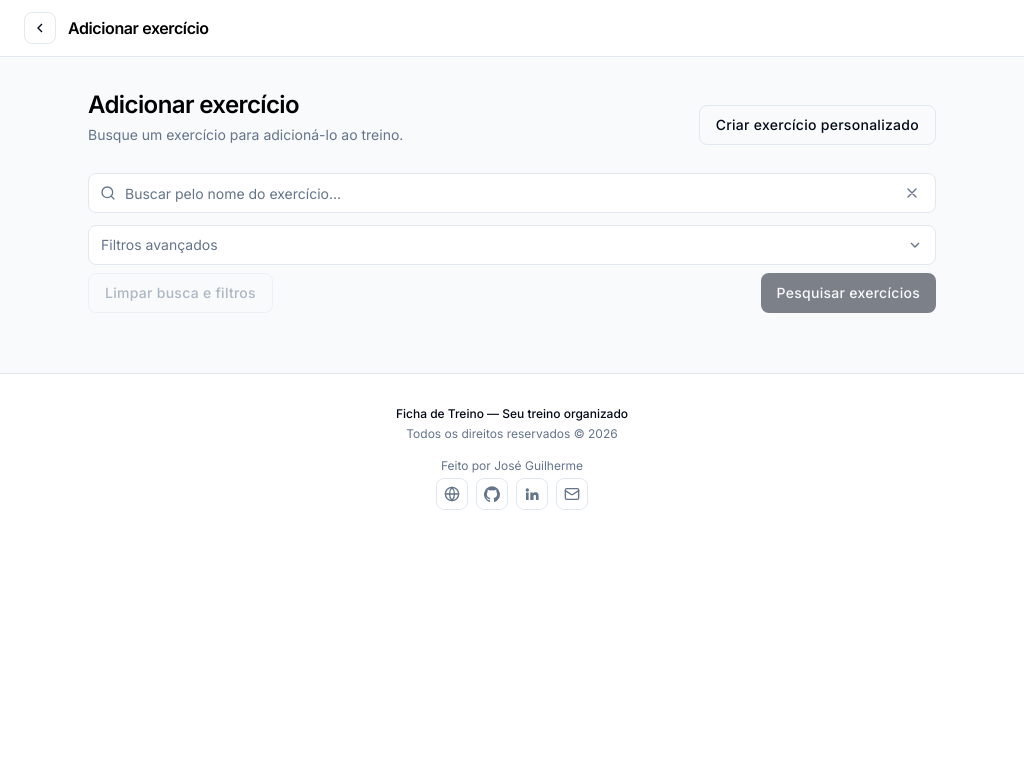
it: AddExercisePage › explains the level filter next to its label
Click the button with aria-label "Mais filtros" at (159, 244), box [88,225,936,265]
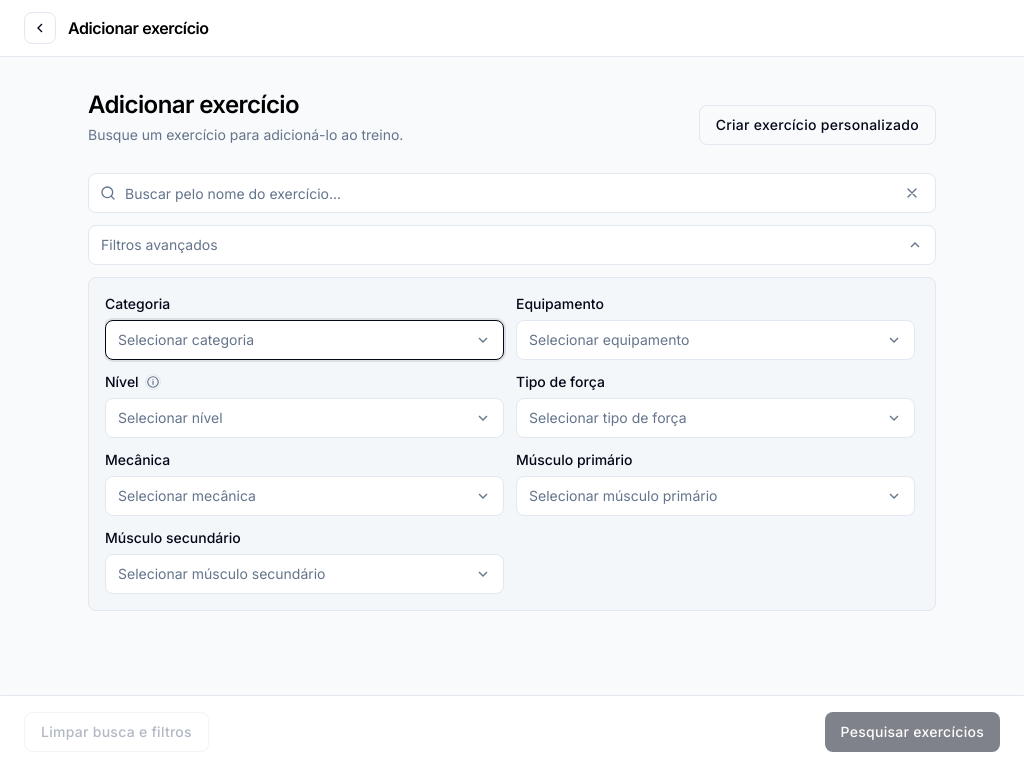
Hover over the button named "Sobre os níveis de exercício" at (153, 382), box [145,374,161,390]
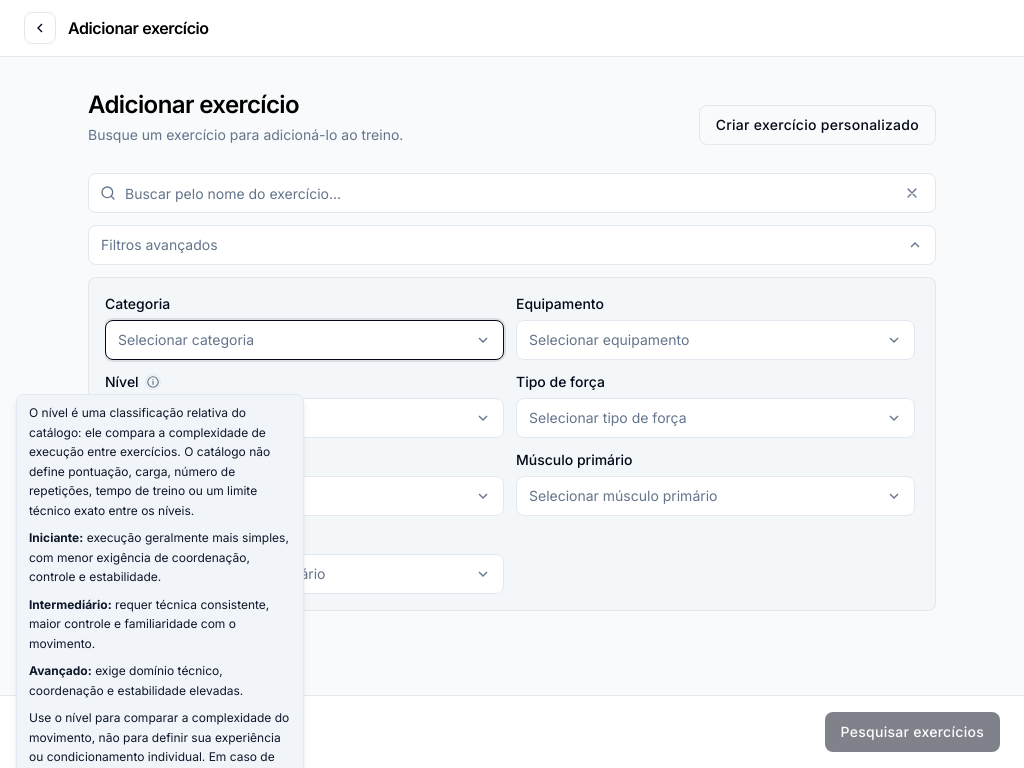
Expected: the tooltip shows "O nível é uma classificação relativa do catálogo", [29,405,270,518]
Expected: the tooltip shows "não define pontuação, carga, número de repetições", [29,405,270,518]
